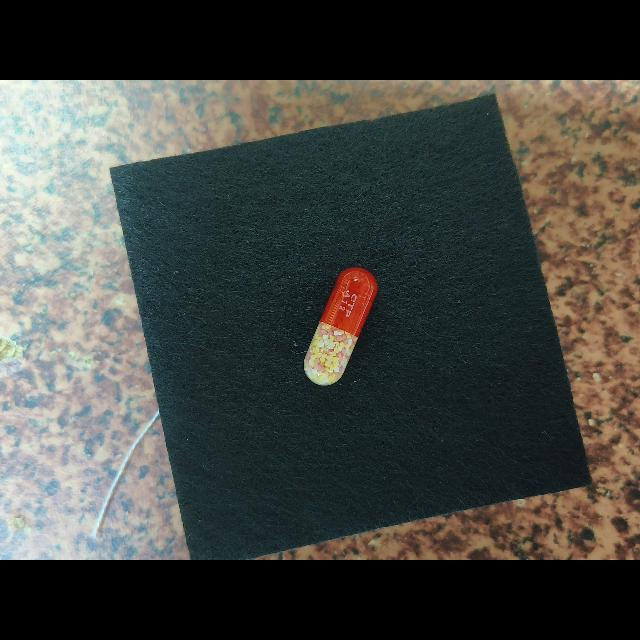Intact Capsule: (304, 267, 378, 386)
